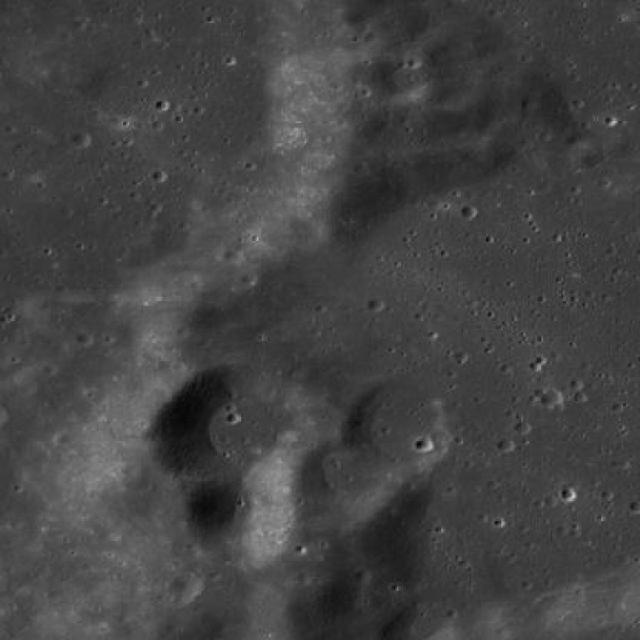crater: (0, 0, 337, 318), (152, 364, 323, 504), (184, 470, 296, 562), (338, 384, 449, 476), (288, 441, 394, 527), (406, 46, 480, 106), (367, 56, 430, 106), (316, 582, 369, 624), (168, 573, 202, 601), (538, 390, 562, 408), (72, 133, 90, 149), (0, 0, 2, 2), (0, 1, 1, 2)
